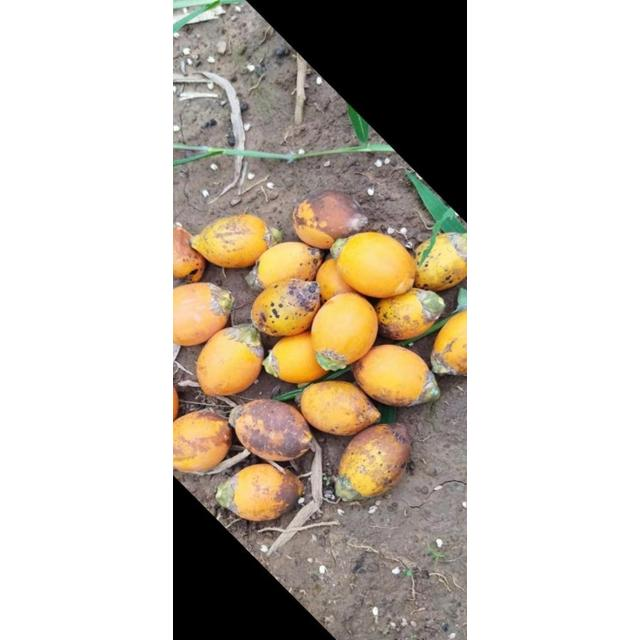good: (180, 225, 434, 485)
